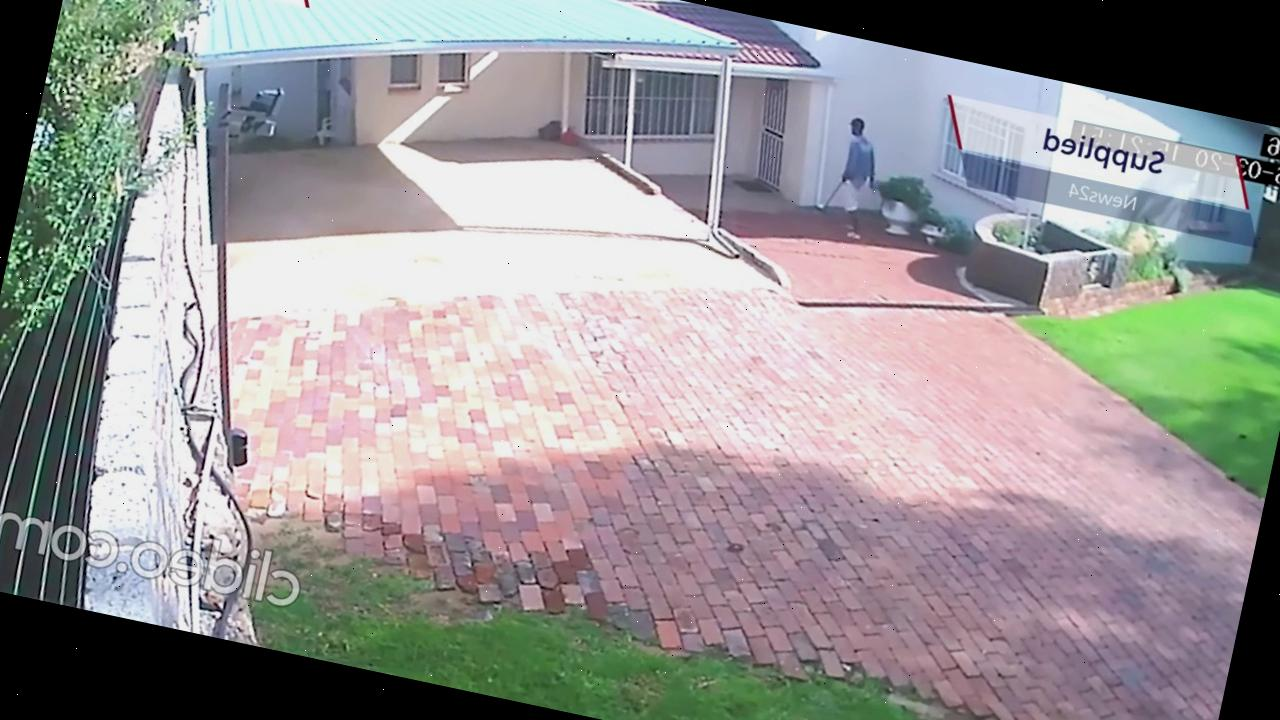suspicion: (804, 108, 904, 251)
